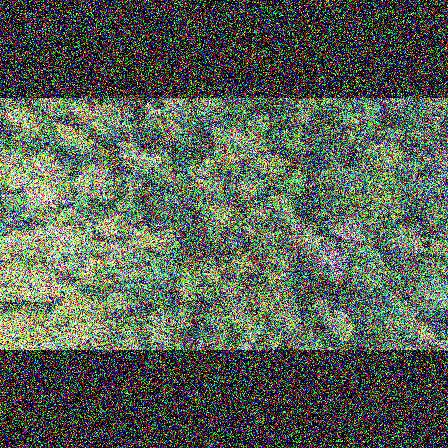Dead: (322, 214, 367, 241), (308, 244, 346, 272), (192, 319, 210, 350)
